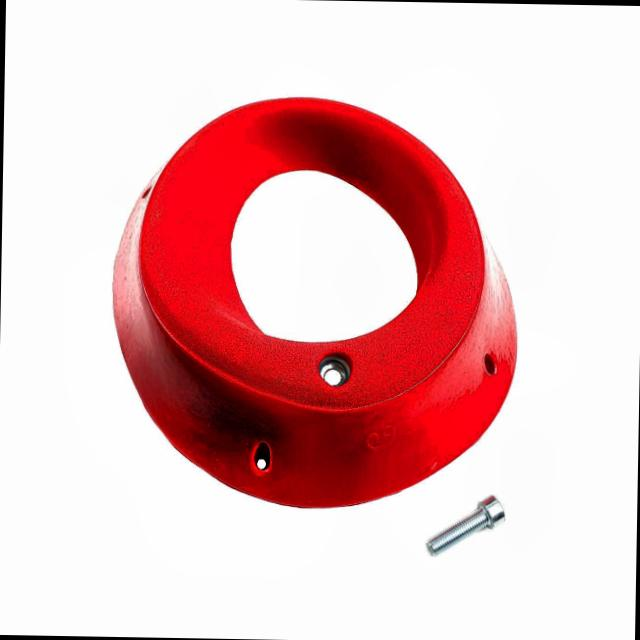Hold: (106, 88, 524, 516)
